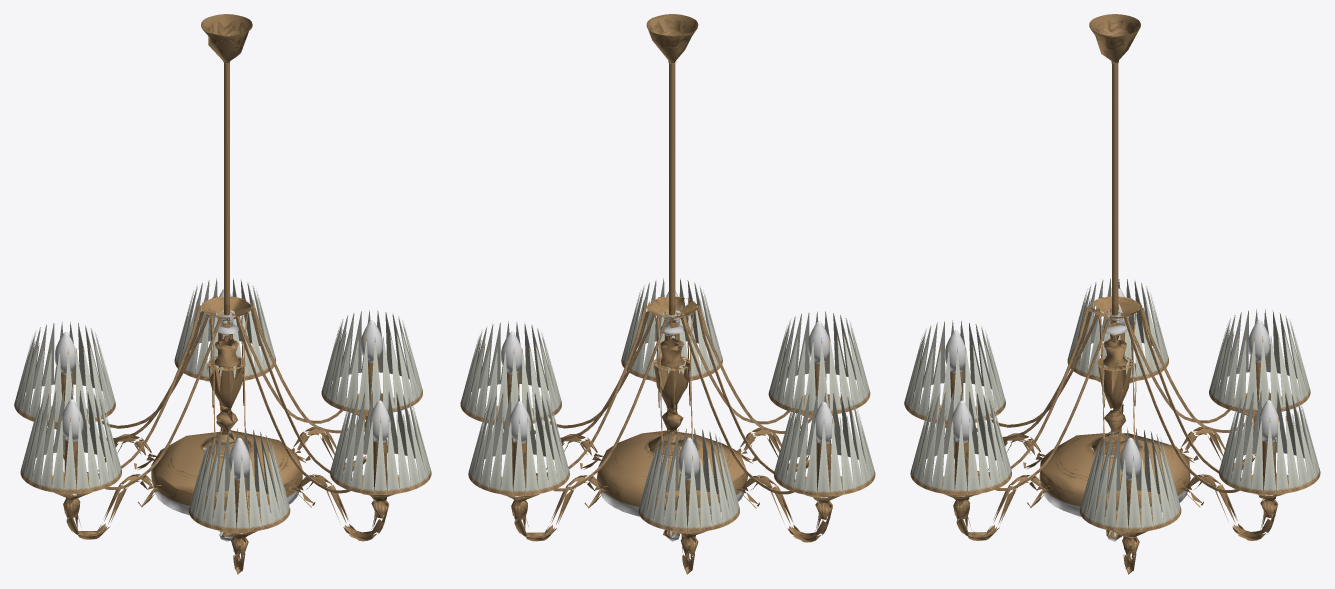
Rendered from Chandelier_02_1k.glb.
The picture shows the model from 3 angles, left to right: view 1: azimuth 30°, elevation 25°; view 2: azimuth 150°, elevation 25°; view 3: azimuth 270°, elevation 25°; orthographic projection.
Parts seen in each view (by area): view 1: Cylinder010002, Cylinder010002_1; view 2: Cylinder010002, Cylinder010002_1; view 3: Cylinder010002, Cylinder010002_1.
Boxes of the visible parts, x1=… form: Cylinder010002: x1=14, y1=14, x2=431, y2=574; Cylinder010002_1: x1=54, y1=289, x2=390, y2=479; Cylinder010002: x1=460, y1=14, x2=875, y2=574; Cylinder010002_1: x1=501, y1=291, x2=834, y2=479; Cylinder010002: x1=904, y1=14, x2=1320, y2=574; Cylinder010002_1: x1=944, y1=288, x2=1279, y2=479.
Size of the model in its own units: 0.679 by 0.8481 by 0.6191.
Materials: 2 (1 with a texture image).
